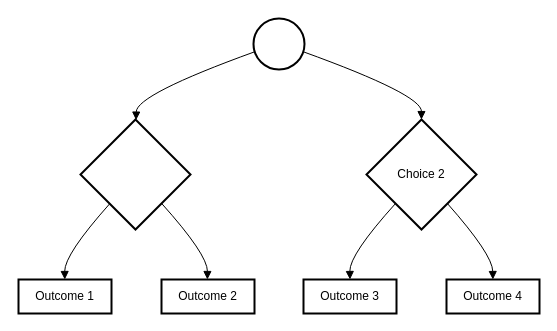
This 557x331 diagram has some shape labels left out. Here are the shapes that lost their labels. From the top down, the centre of each, then its label:
At (278,43): "Start".
At (135,174): "Choice 1".
